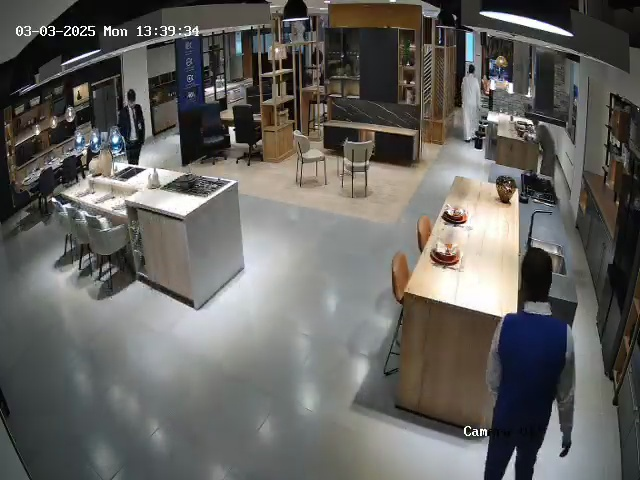employee: (483, 247, 576, 480), (118, 89, 145, 165)
male: (461, 64, 481, 143)
